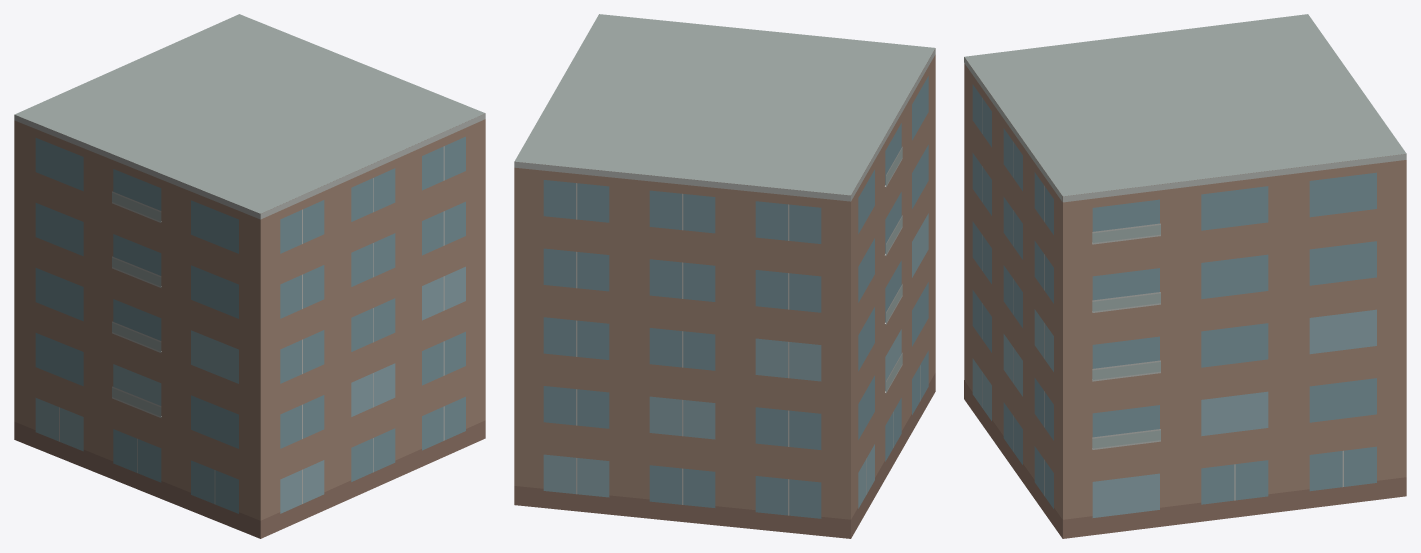
File: survey-upis-32845647.glb
The picture shows the model from 3 angles, left to right: view 1: azimuth 30°, elevation 25°; view 2: azimuth 150°, elevation 25°; view 3: azimuth 270°, elevation 25°; orthographic projection. The views are drawn at different scales.
Parts seen in each view (by area): view 1: survey-upis-32845647.tmp; view 2: survey-upis-32845647.tmp; view 3: survey-upis-32845647.tmp.
Boxes of the visible parts, left/top/right/bottom form: survey-upis-32845647.tmp: left=14, top=14, right=485, bottom=538; survey-upis-32845647.tmp: left=514, top=14, right=935, bottom=538; survey-upis-32845647.tmp: left=964, top=14, right=1406, bottom=538.
Size of the model in its own units: 15.77 by 13.8 by 16.17.
